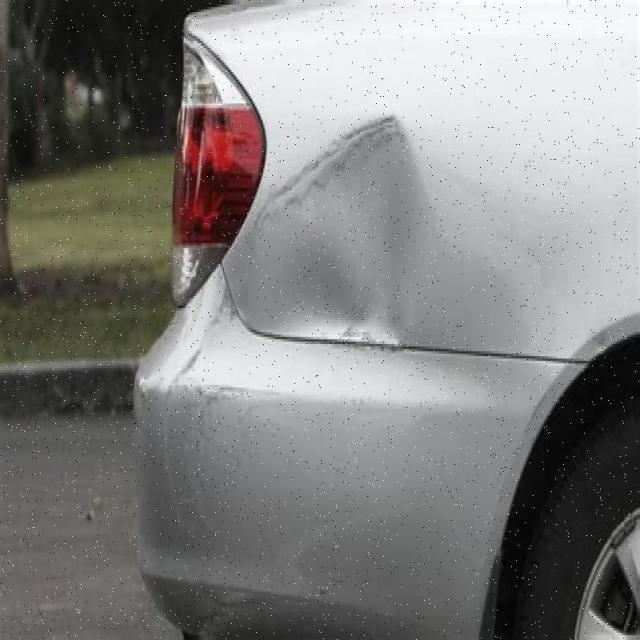dent: (237, 118, 425, 347)
